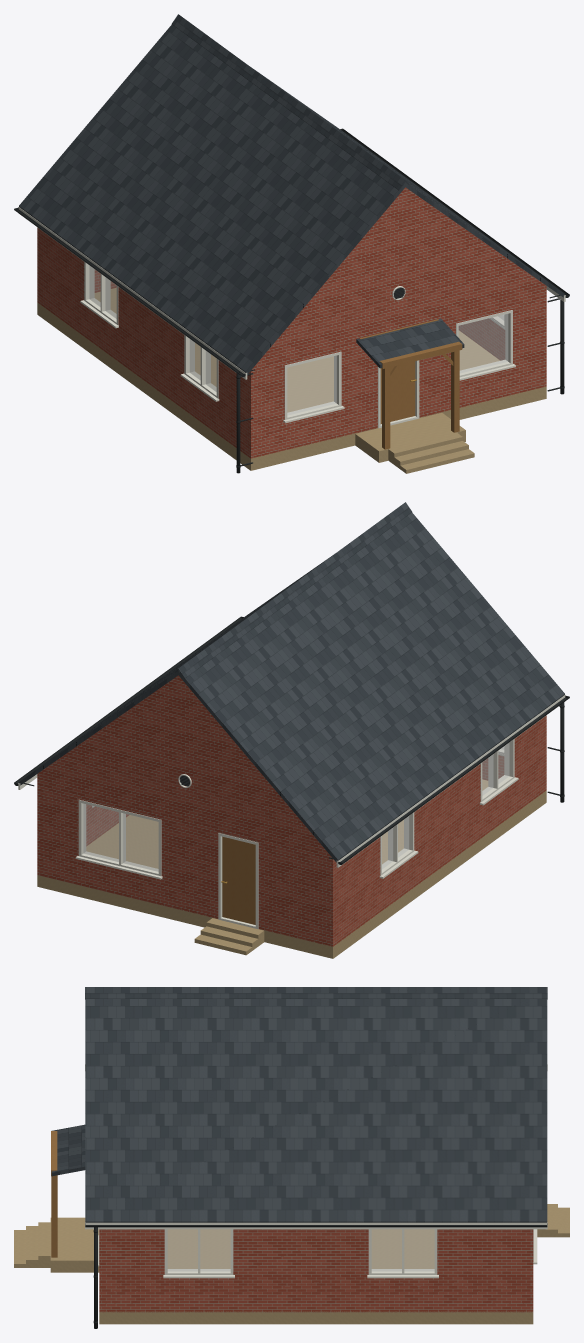
Rendered from pitched-roof-cottage.glb.
3 views of the same model, one above another, from view 1: azimuth 30°, elevation 25°; view 2: azimuth 150°, elevation 25°; view 3: azimuth 270°, elevation 25° (orthographic).
Visible parts, largest first — view 1: Main roof closed pitched roof slab, Main house hollow wall shell with actual openings, Grounded continuous foundation and floor, Main roof finite ridge cap, Porch closed pitched canopy, Main house Front left window finite glazing, Main house Front right window finite glazing, Porch grounded landing, Main house Front entrance closed finite door leaf, Main house Front left window finite seated frame, Main house left window 0 finite seated frame, Main house left window 1 finite seated frame (+13 smaller); view 2: Main roof closed pitched roof slab, Main house hollow wall shell with actual openings, Grounded continuous foundation and floor, Main house Rear picture window finite glazing, Main roof finite ridge cap, Main house Rear garden door closed finite door leaf, Main house Rear picture window finite seated frame, Main house left window 0 finite seated frame, Eaves -1 open finite gutter with outlet, Main house left window 1 finite seated frame, Main house Rear garden door finite seated frame, Main roof seated eave fascia -1 (+6 smaller); view 3: Main roof closed pitched roof slab, Main house hollow wall shell with actual openings, Grounded continuous foundation and floor, Main roof finite ridge cap, Main roof seated eave fascia 1, Main house right window 0 finite glazing, Main house right window 1 finite glazing, Porch grounded landing, Eaves 1 open finite gutter with outlet, Porch closed pitched canopy, Main house right window 0 finite seated frame, Main house right window 1 finite seated frame (+4 smaller).
Boxes of the visible parts, <box> form: Main roof closed pitched roof slab: <box>19,24,564,374</box>; Main house hollow wall shell with actual openings: <box>37,187,546,458</box>; Grounded continuous foundation and floor: <box>37,288,546,470</box>; Main roof finite ridge cap: <box>172,14,412,190</box>; Porch closed pitched canopy: <box>356,318,464,368</box>; Main house Front left window finite glazing: <box>287,355,336,415</box>; Main house Front right window finite glazing: <box>459,314,507,373</box>; Porch grounded landing: <box>355,413,465,462</box>; Main house Front entrance closed finite door leaf: <box>380,361,415,423</box>; Main house Front left window finite seated frame: <box>284,351,341,419</box>; Main house left window 0 finite seated frame: <box>184,335,218,398</box>; Main house left window 1 finite seated frame: <box>84,262,118,324</box>; Main roof closed pitched roof slab: <box>19,512,564,862</box>; Main house hollow wall shell with actual openings: <box>37,675,546,946</box>; Grounded continuous foundation and floor: <box>37,779,546,958</box>; Main house Rear picture window finite glazing: <box>83,804,158,871</box>; Main roof finite ridge cap: <box>171,502,411,678</box>; Main house Rear garden door closed finite door leaf: <box>222,836,255,924</box>; Main house Rear picture window finite seated frame: <box>78,799,161,876</box>; Main house left window 0 finite seated frame: <box>480,739,514,801</box>; Eaves -1 open finite gutter with outlet: <box>340,697,569,863</box>; Main house left window 1 finite seated frame: <box>380,812,414,875</box>; Main house Rear garden door finite seated frame: <box>218,833,258,929</box>; Main roof seated eave fascia -1: <box>336,694,565,867</box>; Main roof closed pitched roof slab: <box>85,999,547,1222</box>; Main house hollow wall shell with actual openings: <box>99,1229,533,1312</box>; Grounded continuous foundation and floor: <box>99,1229,533,1324</box>; Main roof finite ridge cap: <box>85,987,547,999</box>; Main roof seated eave fascia 1: <box>85,1222,547,1229</box>; Main house right window 0 finite glazing: <box>168,1229,230,1271</box>; Main house right window 1 finite glazing: <box>372,1229,434,1271</box>; Porch grounded landing: <box>50,1217,99,1272</box>; Eaves 1 open finite gutter with outlet: <box>85,1225,546,1227</box>; Porch closed pitched canopy: <box>51,1124,85,1176</box>; Main house right window 0 finite seated frame: <box>164,1229,233,1274</box>; Main house right window 1 finite seated frame: <box>368,1229,437,1274</box>.
Size of the model in its own units: 8.9 by 6.71 by 12.81.
8 materials, 8 textured.
